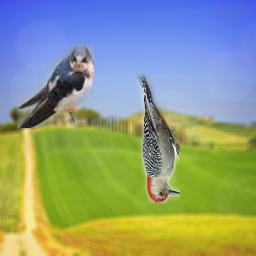Swallow: (17, 44, 94, 128)
Woodpecker: (135, 73, 180, 203)
